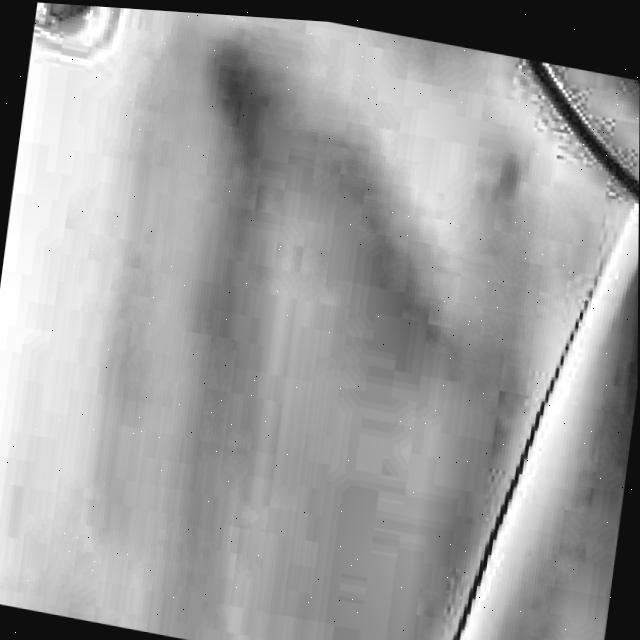door_dent: (150, 20, 479, 318)
